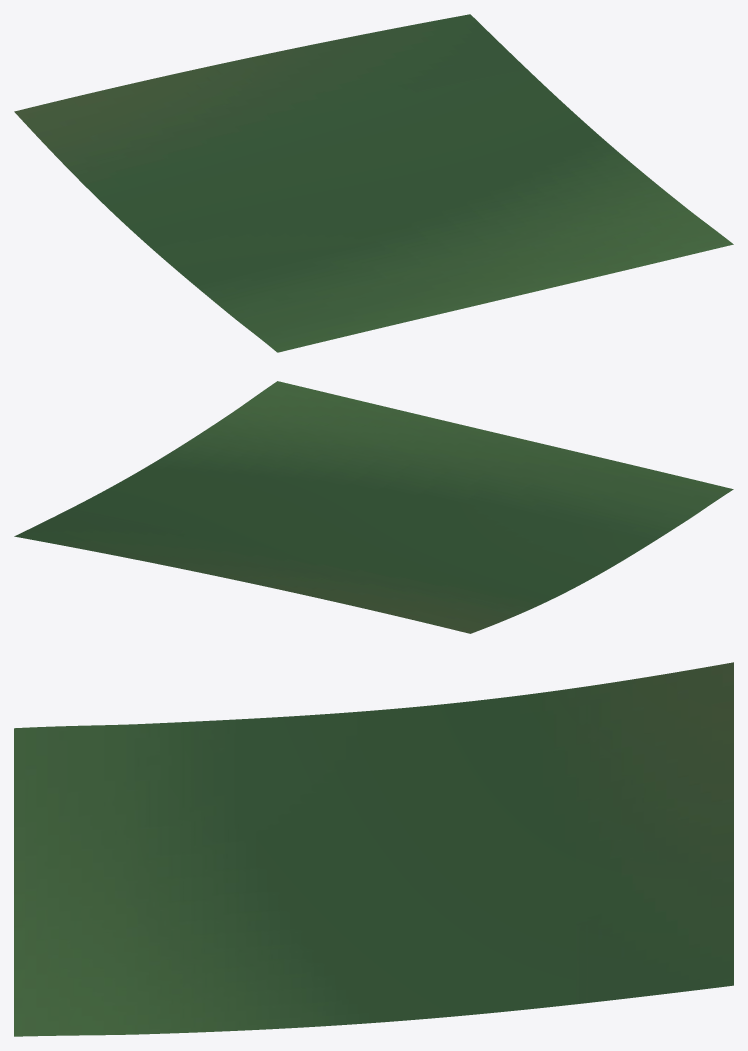
Rendered from terrain_T_E00_N04.glb.
The picture shows the model from 3 angles, top to bottom: view 1: azimuth 30°, elevation 25°; view 2: azimuth 150°, elevation 25°; view 3: azimuth 270°, elevation 25°; orthographic projection. The views are drawn at different scales.
Parts seen in each view (by area): view 1: Terrain_T_E00_N04; view 2: Terrain_T_E00_N04; view 3: Terrain_T_E00_N04.
Boxes of the visible parts, x1,y1,x2,y2 form: Terrain_T_E00_N04: (14, 14, 733, 352); Terrain_T_E00_N04: (14, 381, 733, 633); Terrain_T_E00_N04: (14, 662, 733, 1036).
Size of the model in its own units: 2000 by 215 by 2000.
Materials: 1 (1 with a texture image).
